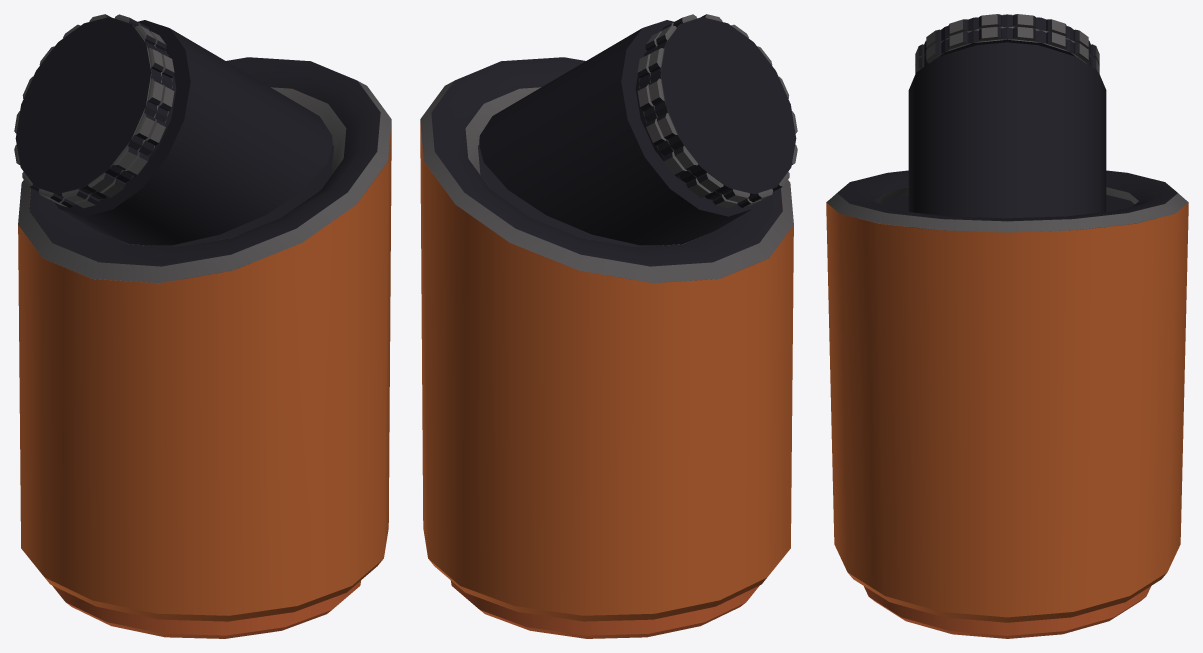
Rendered from l_thigh.glb.
The picture shows the model from 3 angles, left to right: view 1: azimuth 30°, elevation 25°; view 2: azimuth 150°, elevation 25°; view 3: azimuth 270°, elevation 25°; orthographic projection. The views are drawn at different scales.
Parts seen in each view (by area): view 1: l_thigh; view 2: l_thigh; view 3: l_thigh.
Part boxes in pixels (left/top/right/bottom): l_thigh: left=14, top=14, right=391, bottom=638; l_thigh: left=420, top=14, right=797, bottom=638; l_thigh: left=826, top=14, right=1188, bottom=638.
Size of the model in its own units: 0.5588 by 0.9153 by 0.5652.
